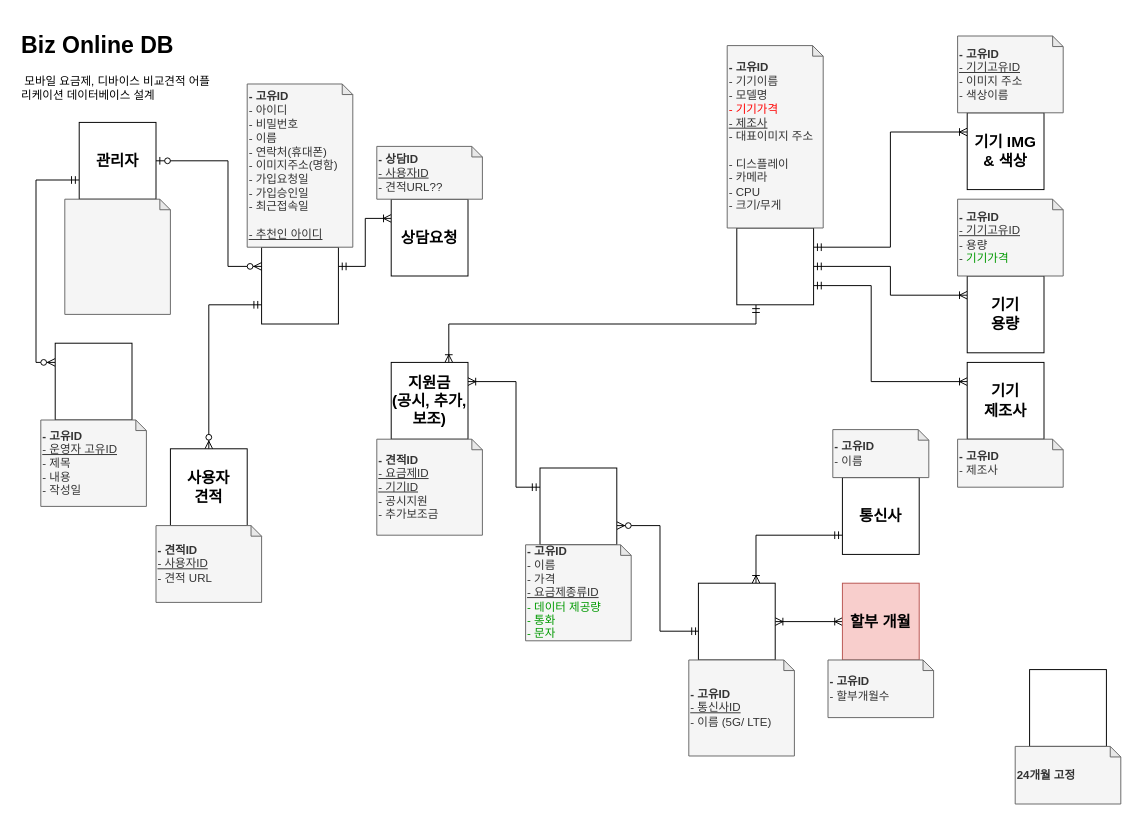
Some shapes in this 1138 by 821 pixel diagram are drawn without their labels. Each missing label, with the box of its shape:
- 고유ID - 아이디 - 비밀번호 - 권한 - 이름 - 소속 - 연락처: (64, 198, 170, 314)
공지사항: (54, 342, 132, 420)
기기: (736, 227, 814, 305)
사용자: (261, 246, 338, 324)
약정 개월: (1029, 669, 1106, 746)
요금제: (539, 467, 617, 545)
요금제 종류: (697, 582, 775, 660)
